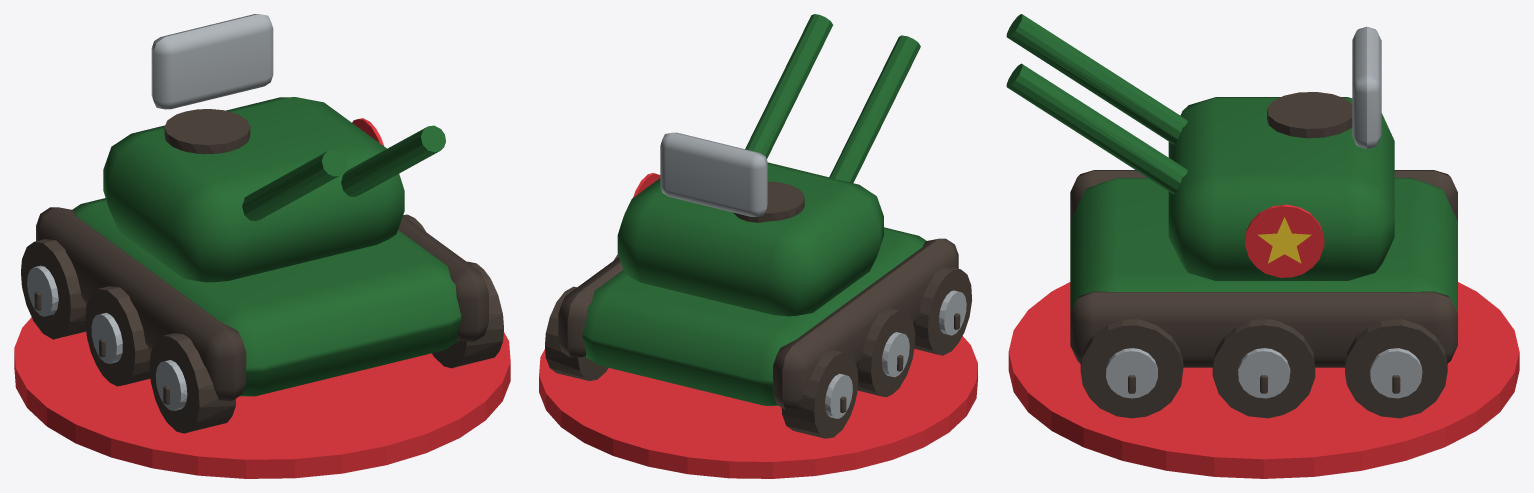
The model's file is vietnam_anti_aircraft_lod0.glb.
The picture shows the model from 3 angles, left to right: view 1: azimuth 30°, elevation 25°; view 2: azimuth 150°, elevation 25°; view 3: azimuth 270°, elevation 25°; orthographic projection. The views are drawn at different scales.
Parts seen in each view (by area): view 1: body_hull, base_pedestal; view 2: body_hull, base_pedestal; view 3: body_hull, base_pedestal.
Part boxes in pixels (x1=…): body_hull: x1=21, y1=14, x2=503, y2=433; base_pedestal: x1=14, y1=317, x2=510, y2=478; body_hull: x1=545, y1=14, x2=971, y2=438; base_pedestal: x1=539, y1=336, x2=977, y2=478; body_hull: x1=1006, y1=14, x2=1457, y2=418; base_pedestal: x1=1008, y1=282, x2=1519, y2=478.
Size of the model in its own units: 0.7766 by 0.5548 by 0.78.
